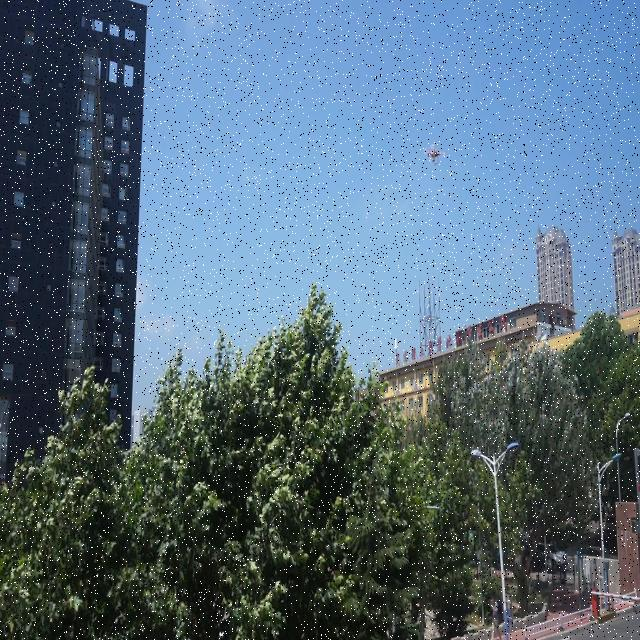UAV: (423, 144, 446, 164)
